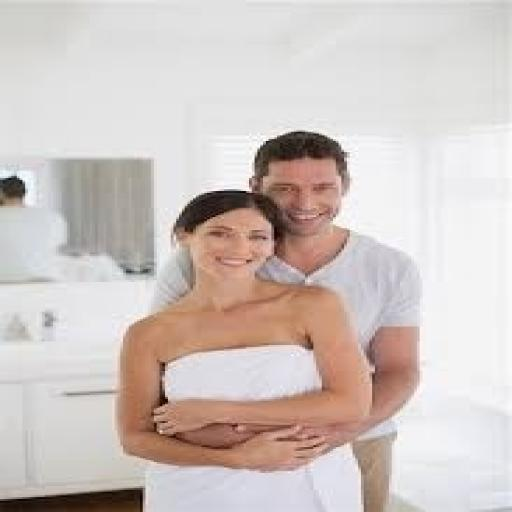hugging: (115, 128, 428, 510)
